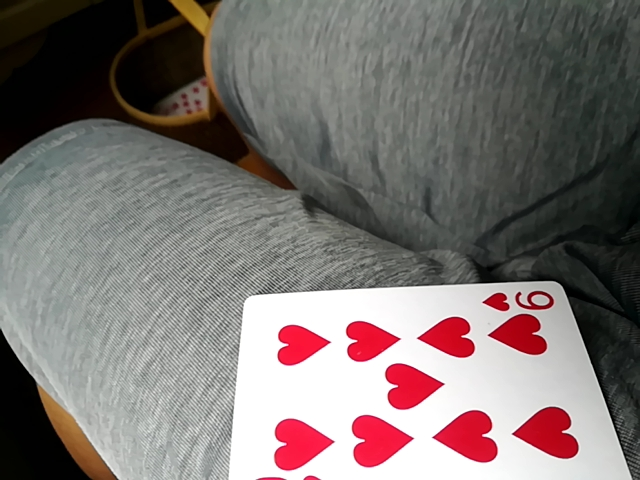hx 9: (231, 281, 617, 480)
